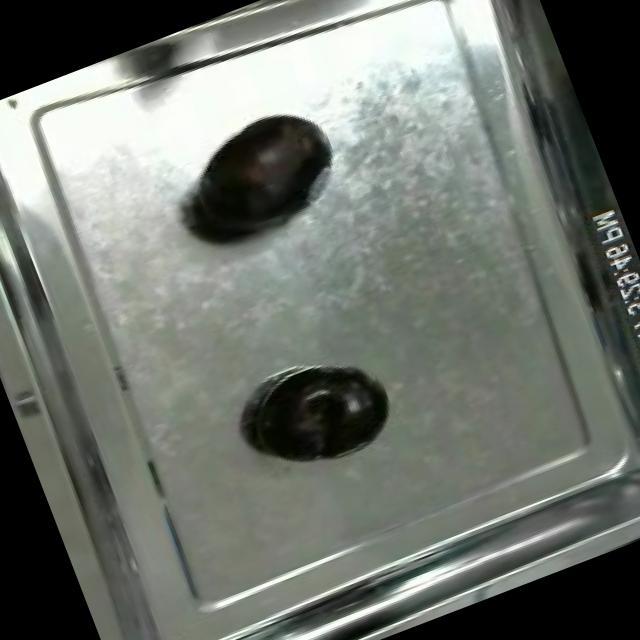Fruit: (164, 92, 352, 258), (240, 351, 402, 486)
